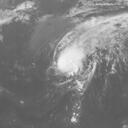cyclone: (54, 28, 97, 76)
